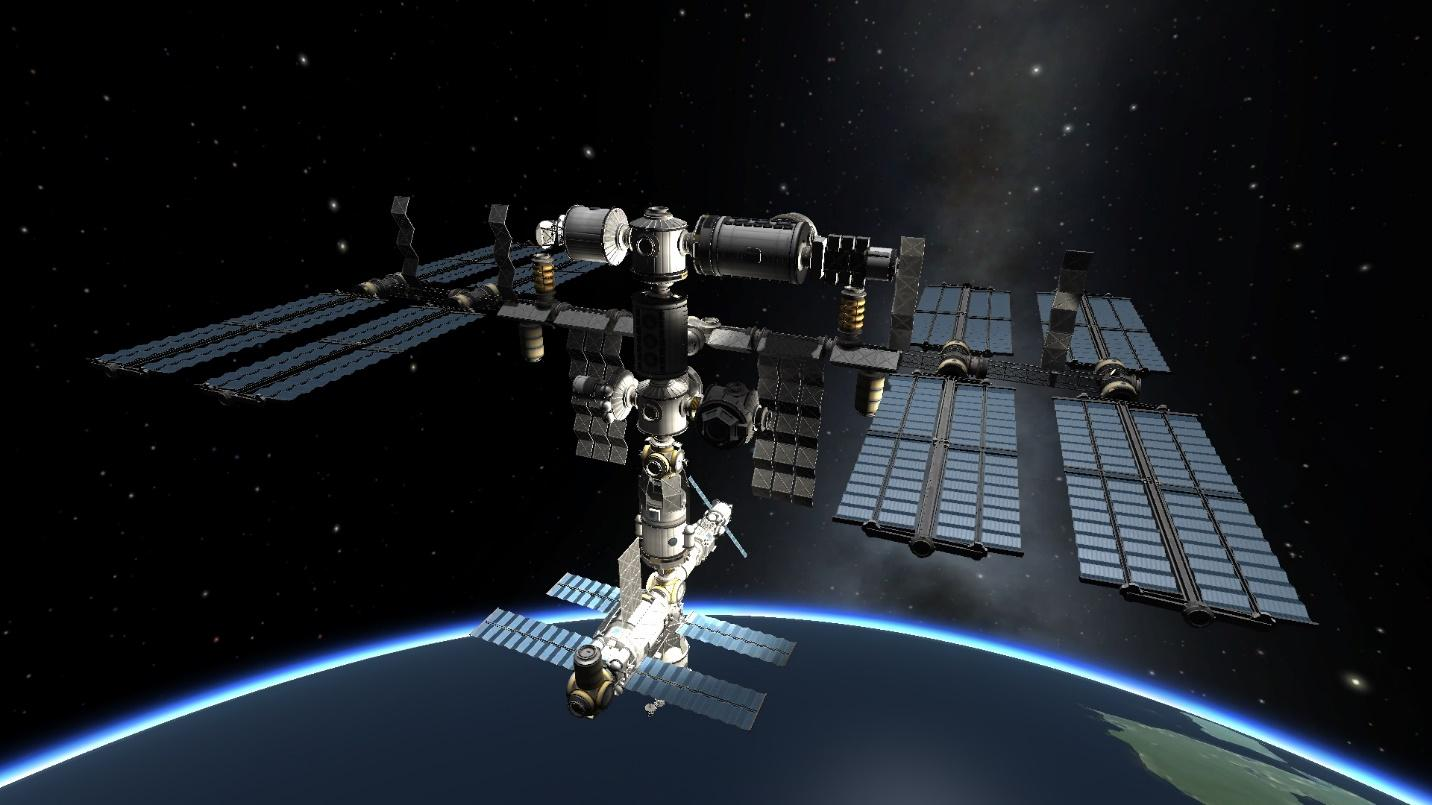solar: (1131, 402, 1319, 630), (1048, 397, 1183, 594), (225, 307, 484, 407), (88, 291, 372, 379), (941, 371, 1032, 560), (836, 368, 933, 539), (1038, 279, 1170, 375), (620, 653, 768, 736), (469, 601, 599, 682), (398, 229, 534, 298), (910, 287, 1016, 364), (679, 613, 800, 671), (540, 566, 629, 620)
